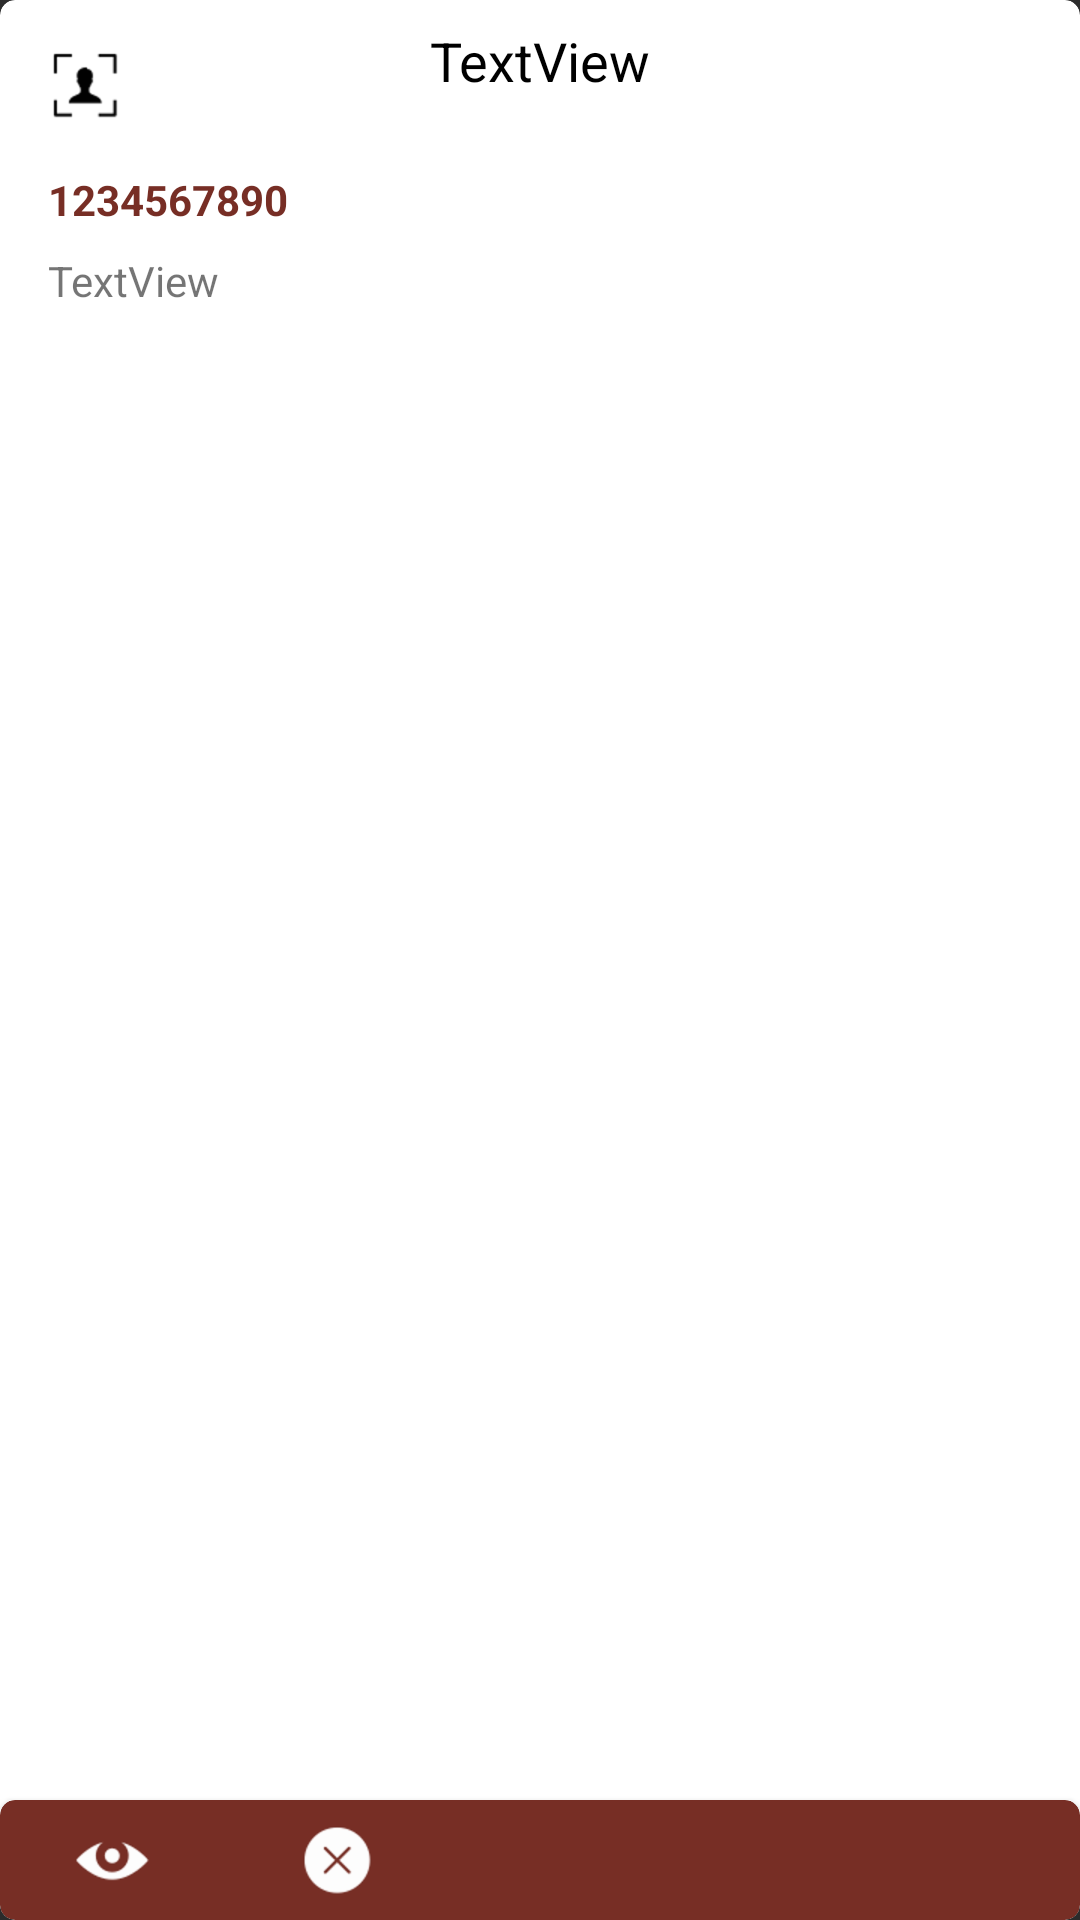

Where icons sit on this 1080px x 1920px app screen, as (x1, y1, x2, y2):
client: (53, 53, 118, 118)
delete cross: (304, 1827, 371, 1894)
